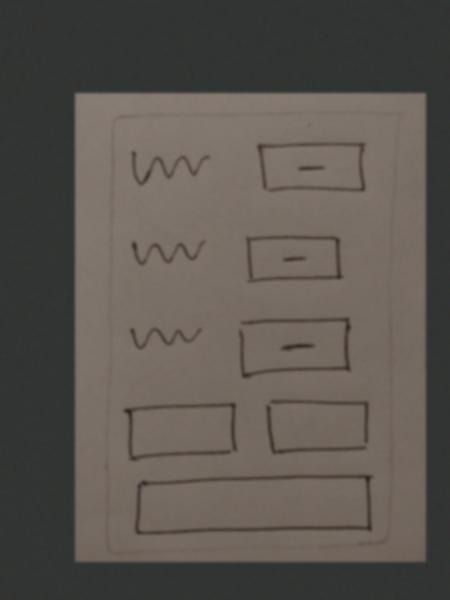button: (245, 132, 381, 203), (234, 313, 361, 380), (242, 229, 353, 288)
text: (123, 224, 213, 275), (127, 145, 217, 188), (125, 318, 209, 358)
text_input: (127, 471, 380, 539), (120, 400, 249, 468), (261, 393, 378, 462)
